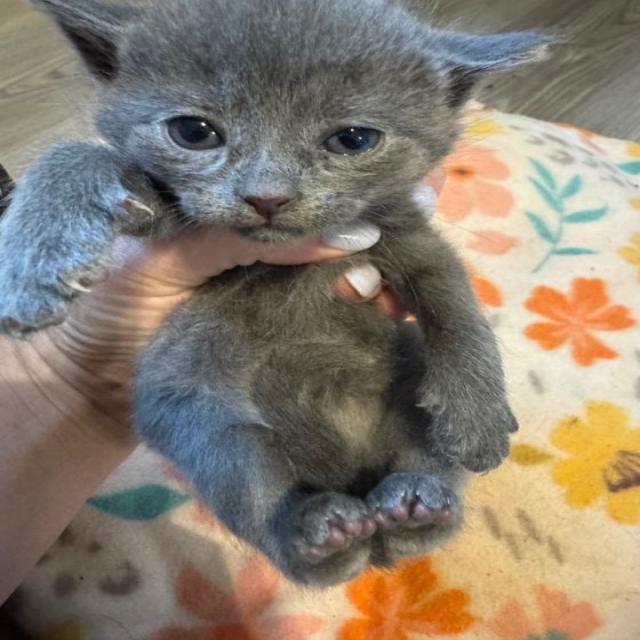russian_blue_cat: (34, 1, 572, 251)
